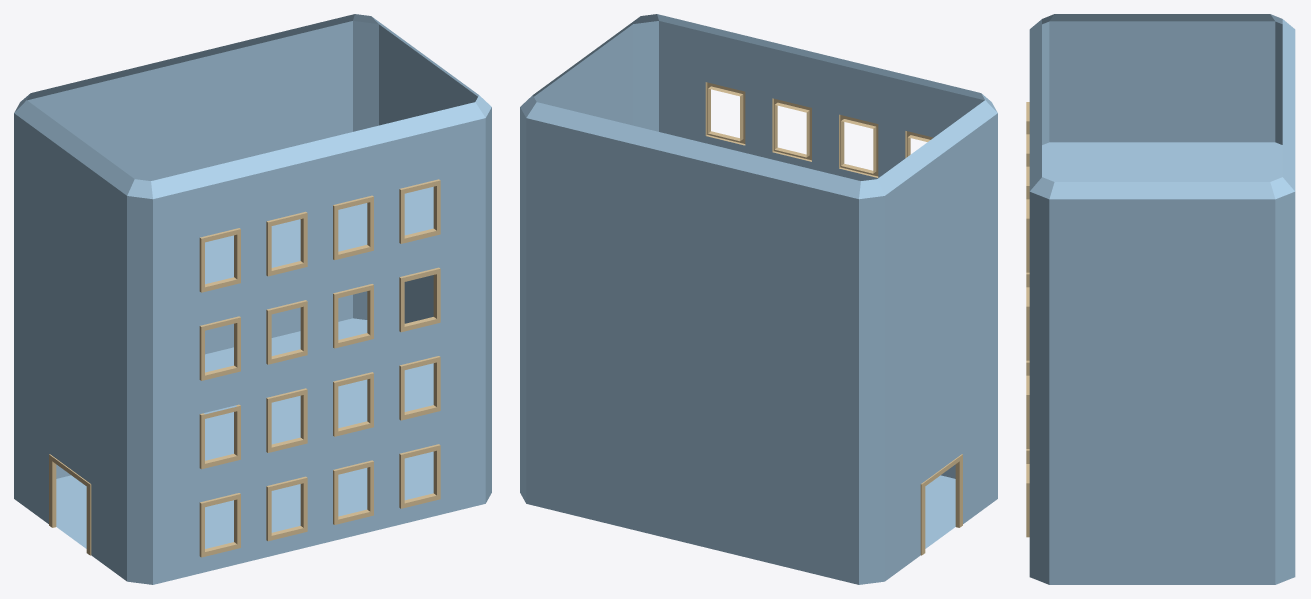
Rendered from Bld_R_med_L4_B.fbx.
The picture shows the model from 3 angles, left to right: view 1: azimuth 30°, elevation 25°; view 2: azimuth 150°, elevation 25°; view 3: azimuth 270°, elevation 25°; orthographic projection.
Visible parts, largest first — view 1: Bld_R_med_L4_B_LOD0; view 2: Bld_R_med_L4_B_LOD0; view 3: Bld_R_med_L4_B_LOD0.
Part boxes in pixels (x1,y1,x2,y2): Bld_R_med_L4_B_LOD0: [14, 14, 491, 584]; Bld_R_med_L4_B_LOD0: [520, 14, 997, 584]; Bld_R_med_L4_B_LOD0: [1026, 14, 1295, 584].
Size of what is drawn, in the model's own units: 2208 by 2598 by 1407.
1 material, 1 textured.
